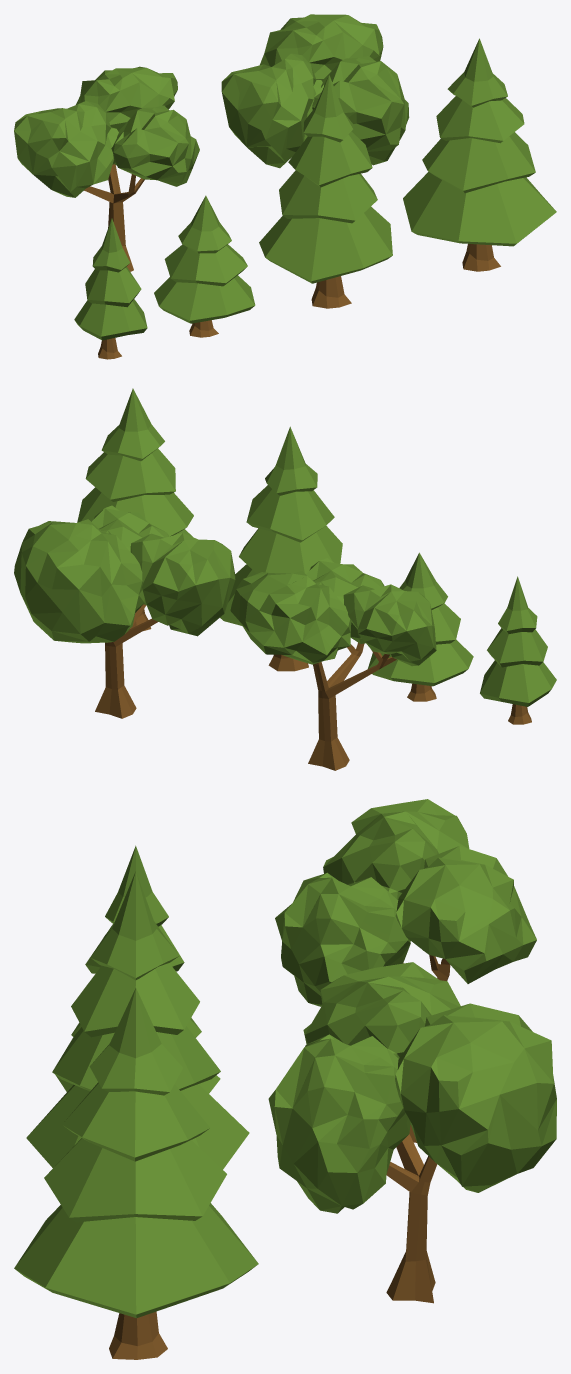
File: GlowingTrees2.fbx
3 views of the same model, one above another, from view 1: azimuth 30°, elevation 25°; view 2: azimuth 150°, elevation 25°; view 3: azimuth 270°, elevation 25° (orthographic). The views are drawn at different scales.
Visible parts, largest first — view 1: Tree_average_lush_Cube.004, Tree_Spruce_small_02_Cylinder.003, Tree_average_regular_Cube.002, Tree_Spruce_small_01_Cylinder.016, Tree_Spruce_tiny_02_Cylinder.014, Tree_Spruce_tiny_01_Cylinder.012; view 2: Tree_average_lush_Cube.004, Tree_average_regular_Cube.002, Tree_Spruce_small_01_Cylinder.016, Tree_Spruce_small_02_Cylinder.003, Tree_Spruce_tiny_01_Cylinder.012, Tree_Spruce_tiny_02_Cylinder.014; view 3: Tree_average_lush_Cube.004, Tree_Spruce_small_02_Cylinder.003, Tree_average_regular_Cube.002, Tree_Spruce_small_01_Cylinder.016, Tree_Spruce_tiny_01_Cylinder.012.
Boxes of the visible parts, x1,y1,x2,y2 form: Tree_average_lush_Cube.004: (221,14,409,168); Tree_Spruce_small_02_Cylinder.003: (403,38,556,271); Tree_average_regular_Cube.002: (14,66,199,271); Tree_Spruce_small_01_Cylinder.016: (259,75,392,308); Tree_Spruce_tiny_02_Cylinder.014: (154,195,255,337); Tree_Spruce_tiny_01_Cylinder.012: (74,218,147,359); Tree_average_lush_Cube.004: (14,505,235,718); Tree_average_regular_Cube.002: (230,558,436,770); Tree_Spruce_small_01_Cylinder.016: (220,426,342,671); Tree_Spruce_small_02_Cylinder.003: (77,388,193,630); Tree_Spruce_tiny_01_Cylinder.012: (480,576,556,724); Tree_Spruce_tiny_02_Cylinder.014: (368,552,473,701); Tree_average_lush_Cube.004: (268,962,556,1303); Tree_Spruce_small_02_Cylinder.003: (14,988,258,1359); Tree_average_regular_Cube.002: (275,799,536,1142); Tree_Spruce_small_01_Cylinder.016: (26,871,249,1169); Tree_Spruce_tiny_01_Cylinder.012: (85,845,184,973).
Size of the model in its own units: 3910 by 1826 by 2492.
Materials: 1 (1 with a texture image).
